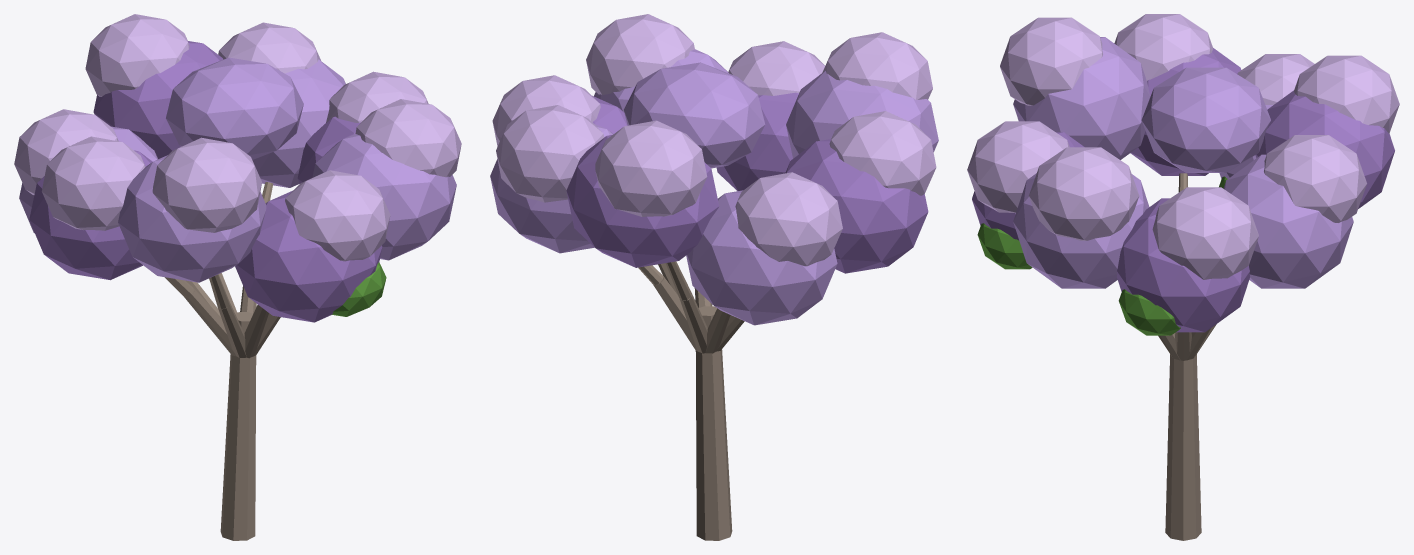
The model's file is tree-jacaranda.glb.
The picture shows the model from 3 angles, left to right: view 1: azimuth 30°, elevation 25°; view 2: azimuth 150°, elevation 25°; view 3: azimuth 270°, elevation 25°; orthographic projection. The views are drawn at different scales.
Parts seen in each view (by area): view 1: Jacaranda upper cluster, Lavender jacaranda cluster.006, Lavender jacaranda cluster.005, Soft lavender crown.005, Lavender jacaranda cluster.007, Soft lavender crown.004, Soft lavender crown.006, Slender jacaranda trunk, Soft lavender crown.002, Soft lavender crown.007, Lavender jacaranda cluster.002, Lavender jacaranda cluster.004 (+10 smaller); view 2: Lavender jacaranda cluster.003, Jacaranda upper cluster, Lavender jacaranda cluster.004, Soft lavender crown.002, Lavender jacaranda cluster.002, Soft lavender crown.003, Soft lavender crown.001, Slender jacaranda trunk, Lavender jacaranda cluster.005, Soft lavender crown.004, Soft lavender crown.007, Soft lavender crown.005 (+9 smaller); view 3: Jacaranda upper cluster, Lavender jacaranda cluster.001, Lavender jacaranda cluster.005, Soft lavender crown.007, Lavender jacaranda cluster, Soft lavender crown, Soft lavender crown.005, Soft lavender crown.001, Lavender jacaranda cluster.007, Slender jacaranda trunk, Soft lavender crown.006, Lavender jacaranda cluster.002 (+7 smaller).
Boxes of the visible parts, x1,y1,x2,y2 form: Jacaranda upper cluster: [166, 57, 303, 159]; Lavender jacaranda cluster.006: [235, 190, 382, 322]; Lavender jacaranda cluster.005: [118, 155, 266, 282]; Soft lavender crown.005: [152, 137, 261, 232]; Lavender jacaranda cluster.007: [312, 134, 456, 260]; Soft lavender crown.004: [41, 136, 145, 230]; Soft lavender crown.006: [285, 170, 390, 261]; Slender jacaranda trunk: [220, 312, 256, 540]; Soft lavender crown.002: [85, 14, 189, 96]; Soft lavender crown.007: [355, 99, 461, 177]; Lavender jacaranda cluster.002: [93, 41, 223, 158]; Lavender jacaranda cluster.004: [29, 150, 152, 280]; Lavender jacaranda cluster.003: [686, 190, 837, 325]; Jacaranda upper cluster: [624, 62, 765, 168]; Lavender jacaranda cluster.004: [785, 139, 928, 273]; Soft lavender crown.002: [595, 120, 707, 216]; Lavender jacaranda cluster.002: [566, 135, 719, 267]; Soft lavender crown.003: [735, 172, 842, 266]; Soft lavender crown.001: [496, 105, 604, 202]; Slender jacaranda trunk: [695, 306, 732, 540]; Lavender jacaranda cluster.005: [786, 71, 938, 158]; Soft lavender crown.004: [829, 111, 936, 195]; Soft lavender crown.007: [586, 14, 694, 95]; Soft lavender crown.005: [822, 32, 932, 99]; Jacaranda upper cluster: [1141, 67, 1270, 172]; Lavender jacaranda cluster.001: [1223, 154, 1353, 288]; Lavender jacaranda cluster.005: [1013, 37, 1150, 159]; Soft lavender crown.007: [1029, 147, 1139, 240]; Lavender jacaranda cluster: [1117, 198, 1249, 332]; Soft lavender crown: [1152, 187, 1258, 279]; Soft lavender crown.005: [1000, 17, 1102, 105]; Soft lavender crown.001: [1264, 135, 1366, 222]; Lavender jacaranda cluster.007: [1013, 173, 1149, 288]; Slender jacaranda trunk: [1165, 354, 1201, 540]; Soft lavender crown.006: [967, 121, 1069, 212]; Lavender jacaranda cluster.002: [1255, 90, 1394, 208].
Size of the model in its own units: 2.42 by 2.69 by 2.27.
